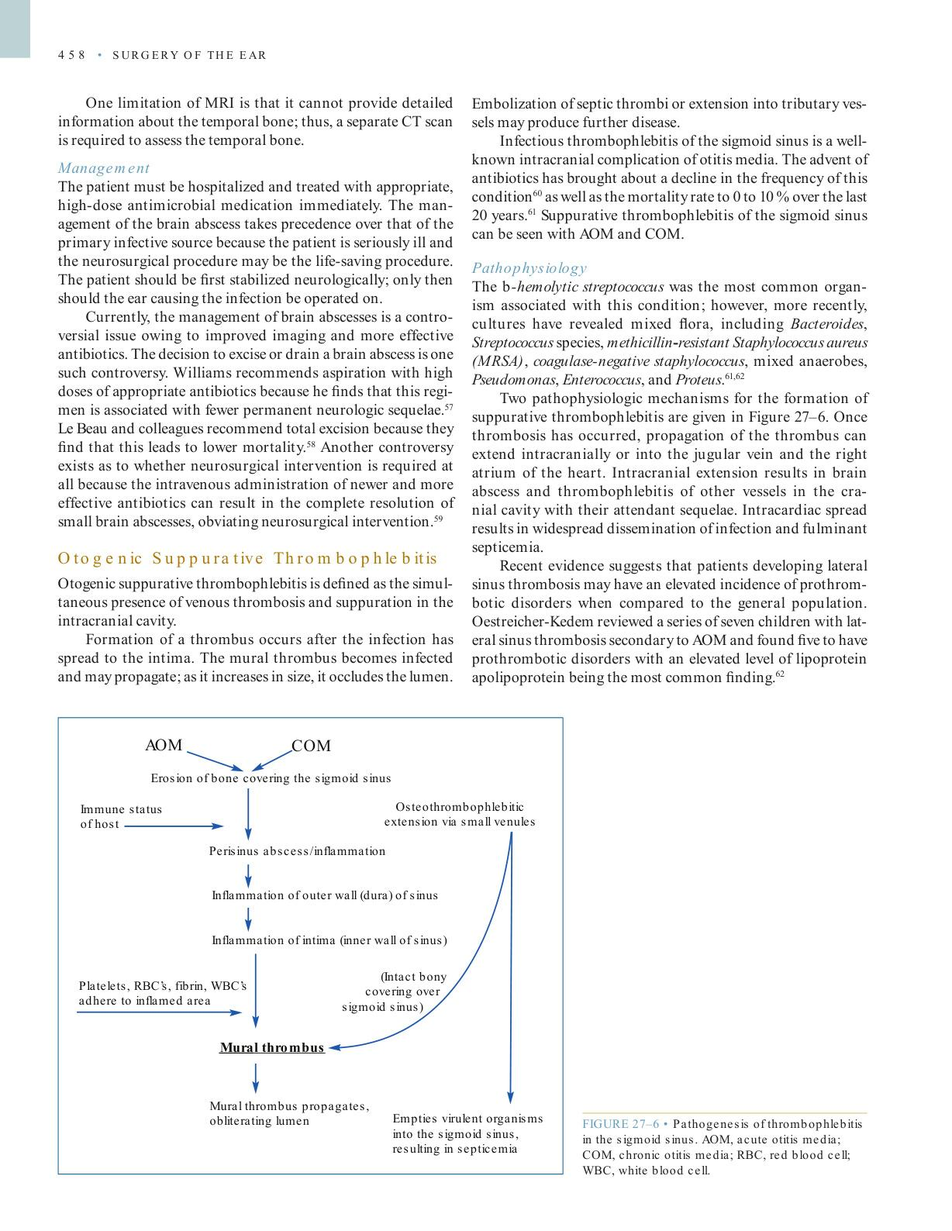caption: (581, 1117, 864, 1176)
header: (111, 49, 267, 62)
image: (62, 722, 559, 1171)
section-heading: (55, 547, 442, 570)
sub-section-heading: (470, 259, 590, 277), (55, 160, 153, 178)
text: (470, 278, 867, 688), (56, 178, 457, 533), (470, 93, 870, 243), (54, 572, 456, 687), (56, 93, 455, 152)
